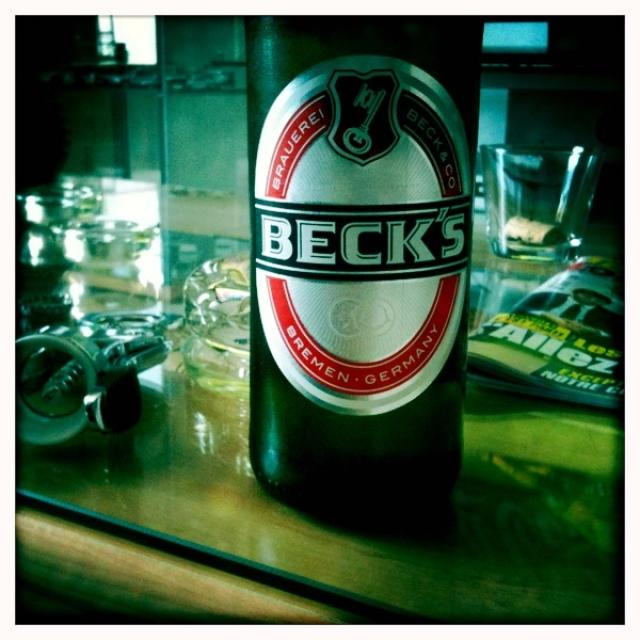becks: (254, 57, 475, 415)
